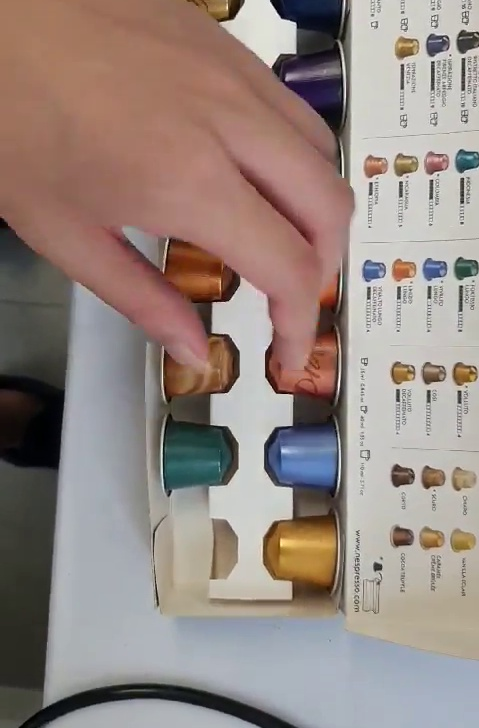capsule_12: (155, 322, 239, 408)
